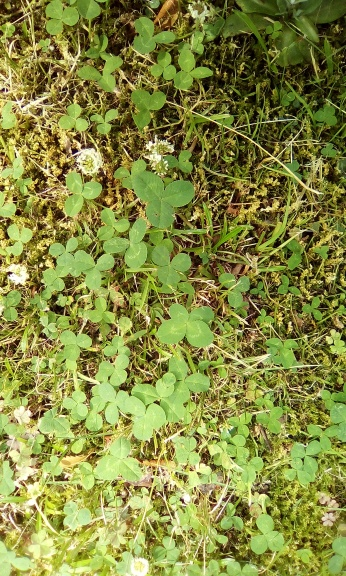4leaf: (155, 303, 214, 348)
